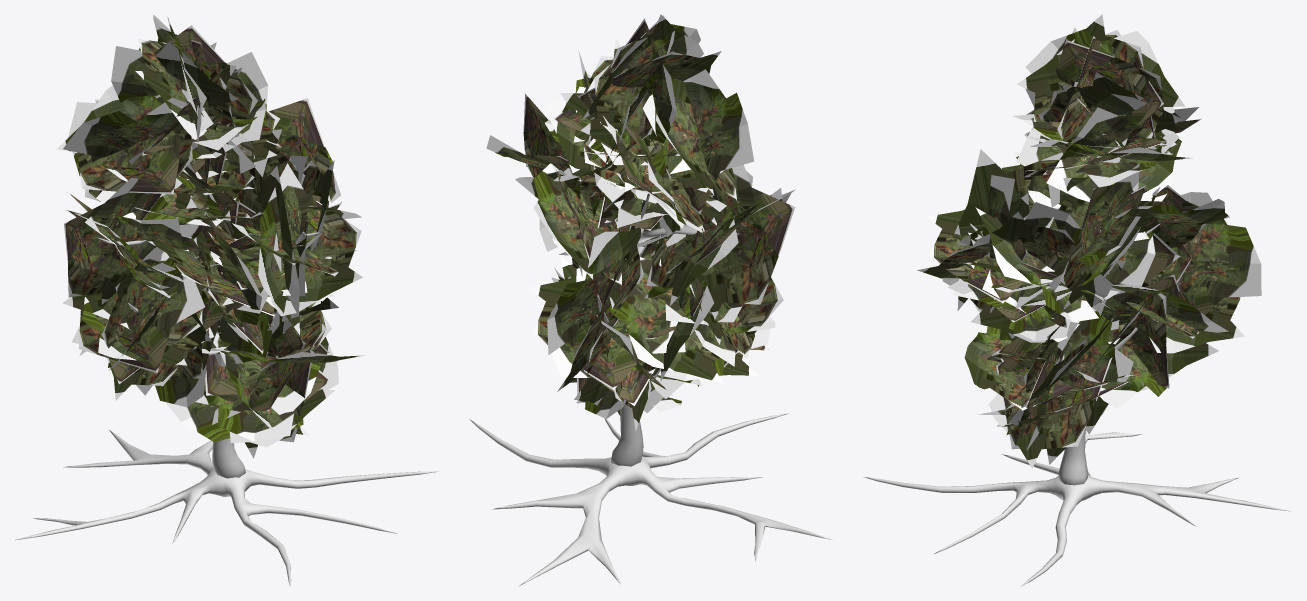
File: Derevo low poli2.fbx
3 renders of one model, left to right at view 1: azimuth 30°, elevation 25°; view 2: azimuth 150°, elevation 25°; view 3: azimuth 270°, elevation 25°, orthographic. The views are drawn at different scales.
Parts seen in each view (by area): view 1: Cube, Derevo|Bush_Branch_qgphP2_atlas_Preview|Dupli|5, Derevo|Bush_Branch_qgphP2_atlas_Preview|Dupli|75, Derevo|Bush_Branch_qgphP2_atlas_Preview|Dupli|29, Derevo|Bush_Branch_qgphP2_atlas_Preview|Dupli|31, Derevo|Bush_Branch_qgphP2_atlas_Preview|Dupli|44, Bush_Branch_qgphP2_atlas_Preview, Derevo|Bush_Branch_qgphP2_atlas_Preview|Dupli|20, Derevo|Bush_Branch_qgphP2_atlas_Preview|Dupli|24, Derevo|Bush_Branch_qgphP2_atlas_Preview|Dupli|8, Derevo|Bush_Branch_qgphP2_atlas_Preview|Dupli|91, Derevo|Bush_Branch_qgphP2_atlas_Preview|Dupli|78 (+38 smaller); view 2: Cube, Derevo|Bush_Branch_qgphP2_atlas_Preview|Dupli|5, Derevo|Bush_Branch_qgphP2_atlas_Preview|Dupli|53, Derevo|Bush_Branch_qgphP2_atlas_Preview|Dupli|24, Derevo|Bush_Branch_qgphP2_atlas_Preview|Dupli|95, Derevo|Bush_Branch_qgphP2_atlas_Preview|Dupli|64, Derevo|Bush_Branch_qgphP2_atlas_Preview|Dupli|3, Derevo|Bush_Branch_qgphP2_atlas_Preview|Dupli|51, Derevo|Bush_Branch_qgphP2_atlas_Preview|Dupli|18, Derevo|Bush_Branch_qgphP2_atlas_Preview|Dupli|29, Derevo|Bush_Branch_qgphP2_atlas_Preview|Dupli|21, Derevo|Bush_Branch_qgphP2_atlas_Preview|Dupli|56 (+35 smaller); view 3: Cube, Derevo|Bush_Branch_qgphP2_atlas_Preview|Dupli|53, Bush_Branch_qgphP2_atlas_Preview, Derevo|Bush_Branch_qgphP2_atlas_Preview|Dupli|87, Derevo|Bush_Branch_qgphP2_atlas_Preview|Dupli|8, Derevo|Bush_Branch_qgphP2_atlas_Preview|Dupli|, Derevo|Bush_Branch_qgphP2_atlas_Preview|Dupli|92, Derevo|Bush_Branch_qgphP2_atlas_Preview|Dupli|43, Derevo|Bush_Branch_qgphP2_atlas_Preview|Dupli|22, Derevo|Bush_Branch_qgphP2_atlas_Preview|Dupli|57, Derevo|Bush_Branch_qgphP2_atlas_Preview|Dupli|69, Derevo|Bush_Branch_qgphP2_atlas_Preview|Dupli|18 (+39 smaller).
Boxes of the visible parts, box(x1,y1,x2,y2) form: Cube: box(15, 429, 437, 586); Derevo|Bush_Branch_qgphP2_atlas_Preview|Dupli|5: box(64, 177, 167, 304); Derevo|Bush_Branch_qgphP2_atlas_Preview|Dupli|75: box(62, 257, 205, 373); Derevo|Bush_Branch_qgphP2_atlas_Preview|Dupli|29: box(56, 85, 213, 194); Derevo|Bush_Branch_qgphP2_atlas_Preview|Dupli|31: box(234, 201, 362, 316); Derevo|Bush_Branch_qgphP2_atlas_Preview|Dupli|44: box(258, 163, 329, 334); Bush_Branch_qgphP2_atlas_Preview: box(190, 145, 299, 366); Derevo|Bush_Branch_qgphP2_atlas_Preview|Dupli|20: box(111, 25, 257, 119); Derevo|Bush_Branch_qgphP2_atlas_Preview|Dupli|24: box(63, 98, 187, 162); Derevo|Bush_Branch_qgphP2_atlas_Preview|Dupli|8: box(269, 98, 340, 202); Derevo|Bush_Branch_qgphP2_atlas_Preview|Dupli|91: box(212, 310, 326, 424); Derevo|Bush_Branch_qgphP2_atlas_Preview|Dupli|78: box(195, 370, 330, 441); Cube: box(469, 413, 831, 585); Derevo|Bush_Branch_qgphP2_atlas_Preview|Dupli|5: box(665, 164, 795, 320); Derevo|Bush_Branch_qgphP2_atlas_Preview|Dupli|53: box(547, 227, 644, 355); Derevo|Bush_Branch_qgphP2_atlas_Preview|Dupli|24: box(683, 69, 754, 214); Derevo|Bush_Branch_qgphP2_atlas_Preview|Dupli|95: box(610, 257, 723, 383); Derevo|Bush_Branch_qgphP2_atlas_Preview|Dupli|64: box(533, 163, 622, 285); Derevo|Bush_Branch_qgphP2_atlas_Preview|Dupli|3: box(646, 171, 752, 305); Derevo|Bush_Branch_qgphP2_atlas_Preview|Dupli|51: box(528, 275, 685, 390); Derevo|Bush_Branch_qgphP2_atlas_Preview|Dupli|18: box(581, 15, 663, 148); Derevo|Bush_Branch_qgphP2_atlas_Preview|Dupli|29: box(651, 89, 736, 200); Derevo|Bush_Branch_qgphP2_atlas_Preview|Dupli|21: box(577, 51, 721, 119); Derevo|Bush_Branch_qgphP2_atlas_Preview|Dupli|56: box(603, 116, 716, 232); Cube: box(863, 430, 1291, 586); Derevo|Bush_Branch_qgphP2_atlas_Preview|Dupli|53: box(1171, 192, 1261, 314); Bush_Branch_qgphP2_atlas_Preview: box(942, 149, 1180, 339); Derevo|Bush_Branch_qgphP2_atlas_Preview|Dupli|87: box(996, 307, 1133, 434); Derevo|Bush_Branch_qgphP2_atlas_Preview|Dupli|8: box(1060, 163, 1139, 309); Derevo|Bush_Branch_qgphP2_atlas_Preview|Dupli|: box(988, 357, 1112, 468); Derevo|Bush_Branch_qgphP2_atlas_Preview|Dupli|92: box(957, 326, 1072, 410); Derevo|Bush_Branch_qgphP2_atlas_Preview|Dupli|43: box(926, 209, 1054, 304); Derevo|Bush_Branch_qgphP2_atlas_Preview|Dupli|22: box(1025, 29, 1185, 143); Derevo|Bush_Branch_qgphP2_atlas_Preview|Dupli|57: box(975, 207, 1098, 322); Derevo|Bush_Branch_qgphP2_atlas_Preview|Dupli|69: box(1046, 121, 1185, 209); Derevo|Bush_Branch_qgphP2_atlas_Preview|Dupli|18: box(1025, 39, 1182, 133).
Bounding box in the file's own units: 2668 × 3240 × 2641.
